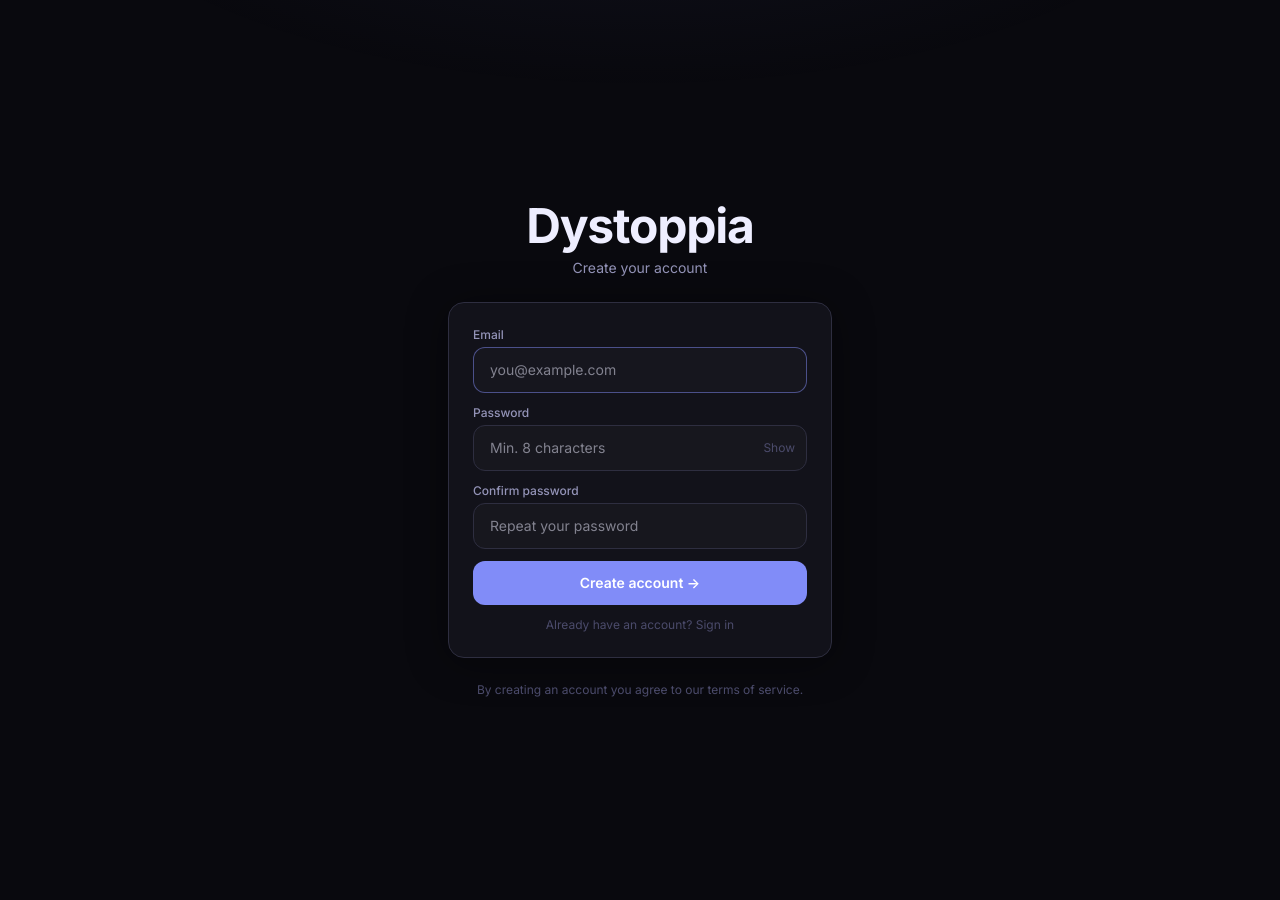
Test: RegisterPage — step 1 validation › shows error when password is too short
The width and height of the screenshot is (1280, 900).
Type "a@test.com" into the field with placeholder "you@example.com" at (640, 370), box [473,347,807,393]
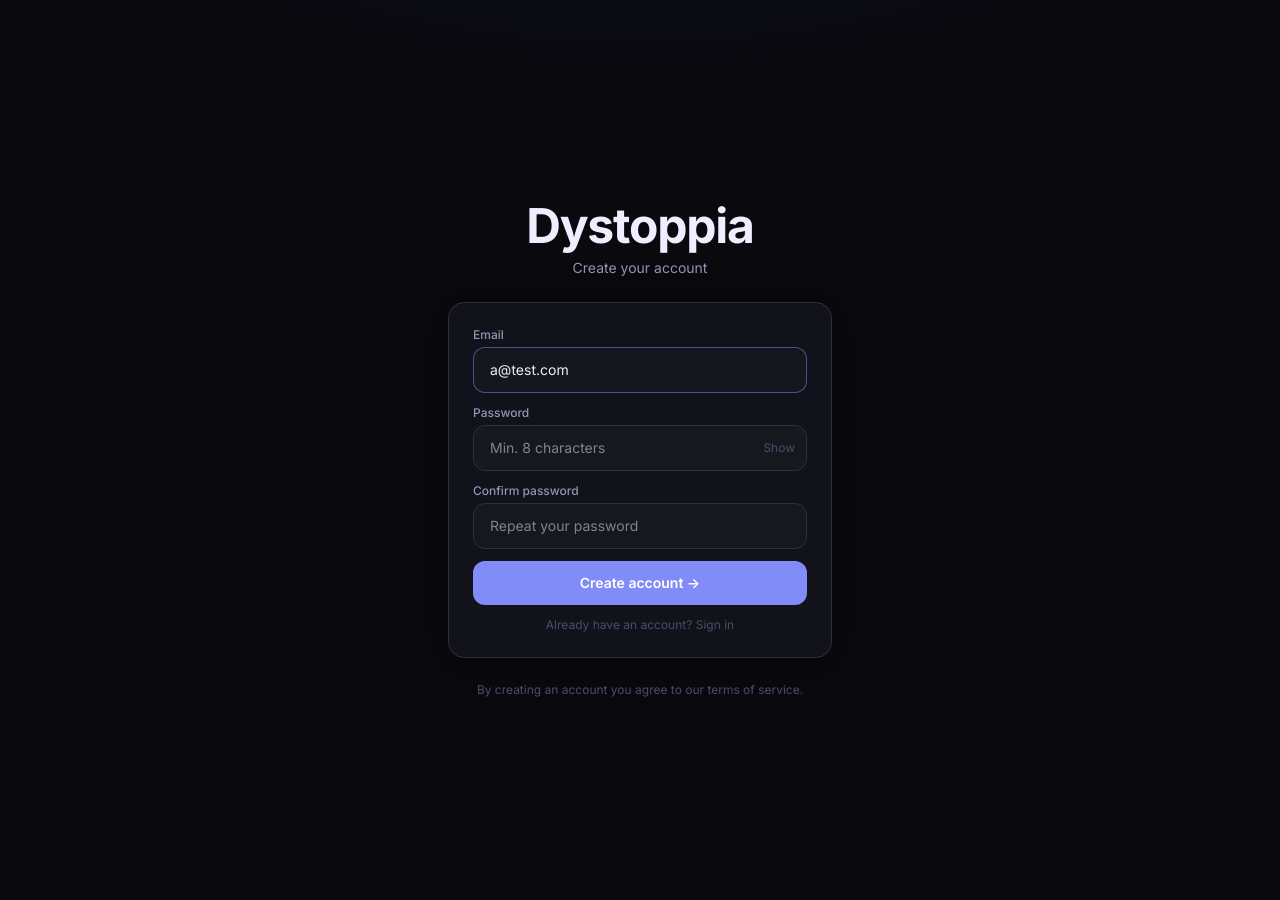
Type "short" into the password field with placeholder "Min. 8 characters" at (640, 448), box [473,425,807,471]
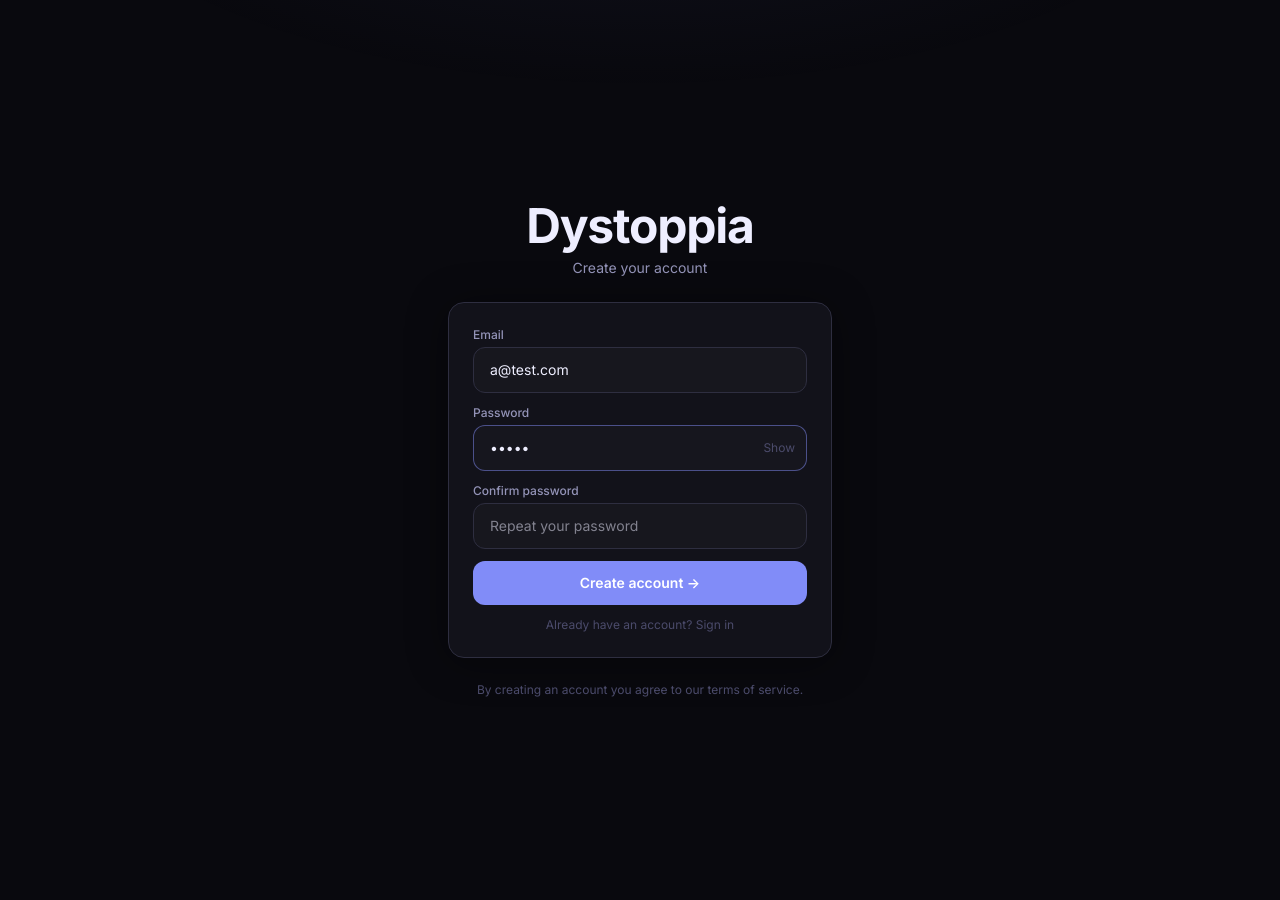
Type "short" into the password field with placeholder "Repeat your password" at (640, 526), box [473,503,807,549]
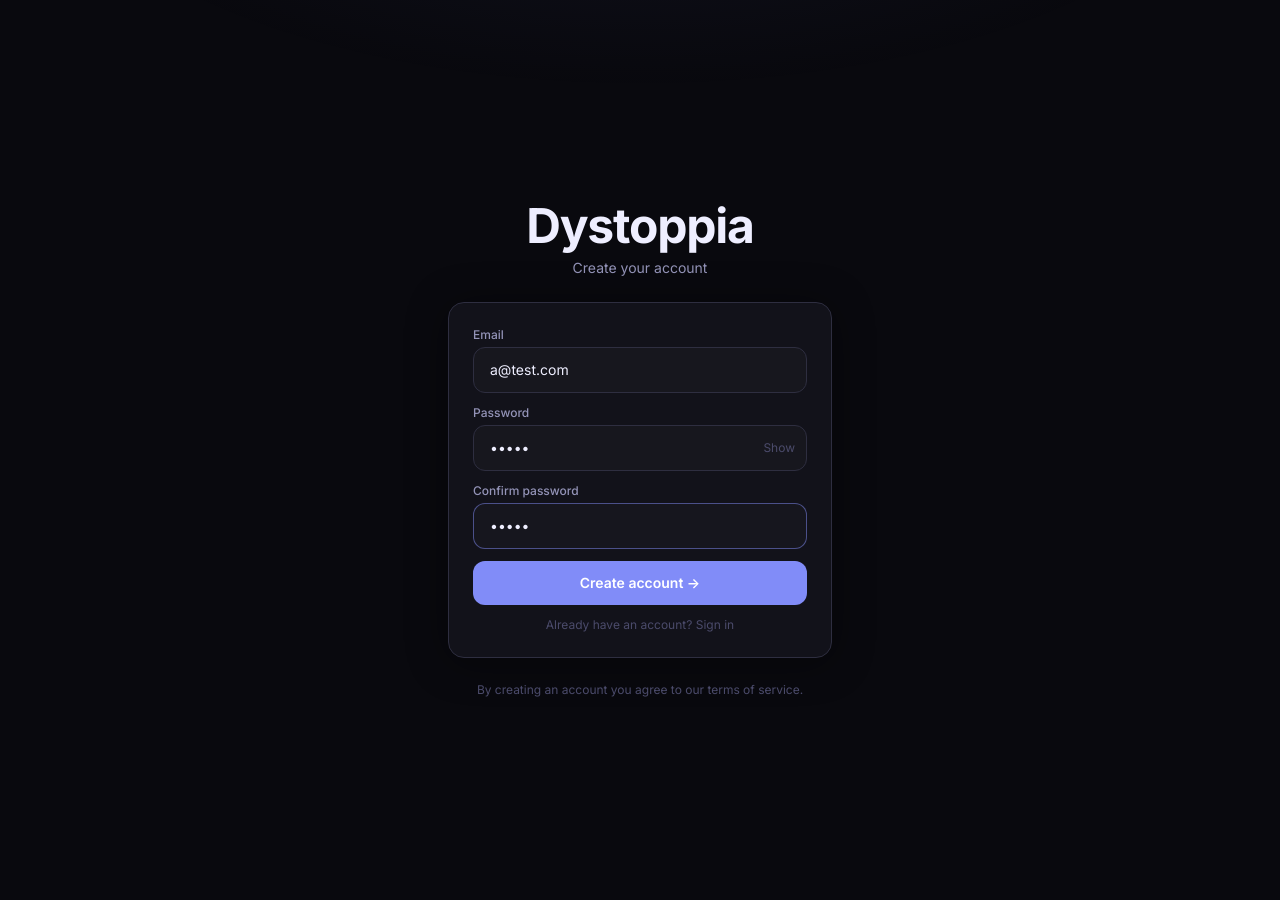
Click the button "Create account →" at (640, 583), box [473,561,807,605]
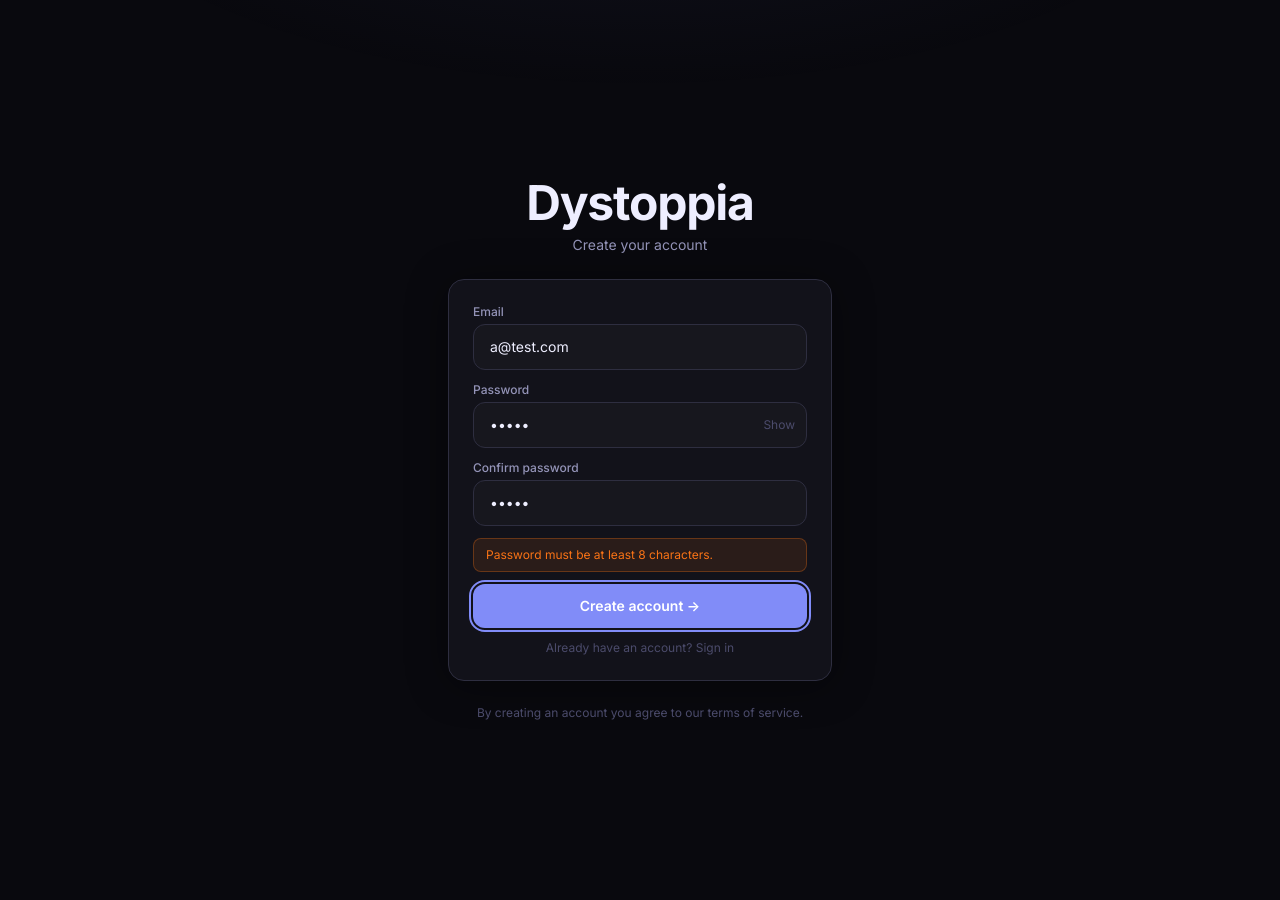
expect the text "Password must be at least 8 characters." is shown: met, box [473,538,807,572]
